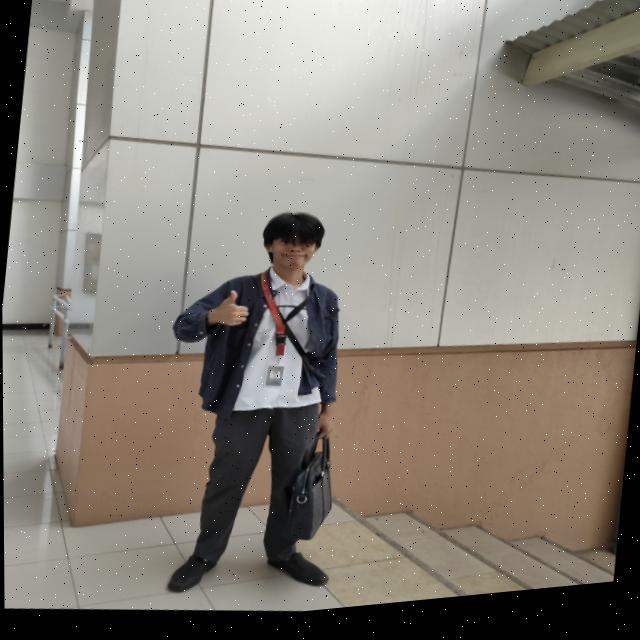uniforms: (164, 272, 344, 608)
